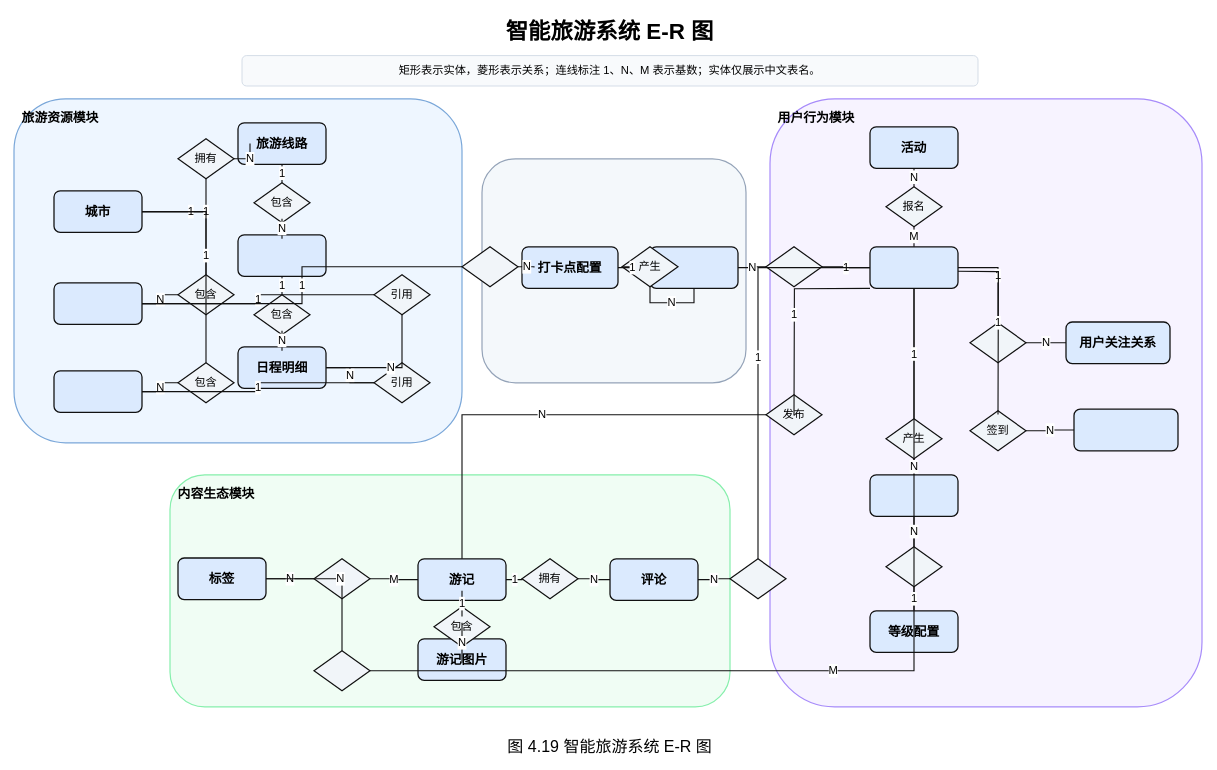
The diagram is 1217 pixels wide and 770 high, and some of its shapes have lost their labels. Here are the shapes that lost their labels. From the top down, the box of each, then its label:
(237, 234, 326, 277): 线路日程
(461, 246, 518, 287): 配置
(481, 158, 746, 383): 打卡系统模块
(649, 246, 738, 289): 打卡记录
(765, 246, 822, 287): 打卡
(869, 246, 958, 289): 用户
(53, 282, 142, 325): 景点
(969, 322, 1026, 363): 关注
(53, 370, 142, 413): 美食
(1073, 408, 1178, 451): 用户签到记录
(869, 474, 958, 517): 行为记录
(313, 558, 370, 599): 标注
(729, 558, 786, 599): 发表
(885, 546, 942, 587): 匹配
(313, 650, 370, 691): 选择
